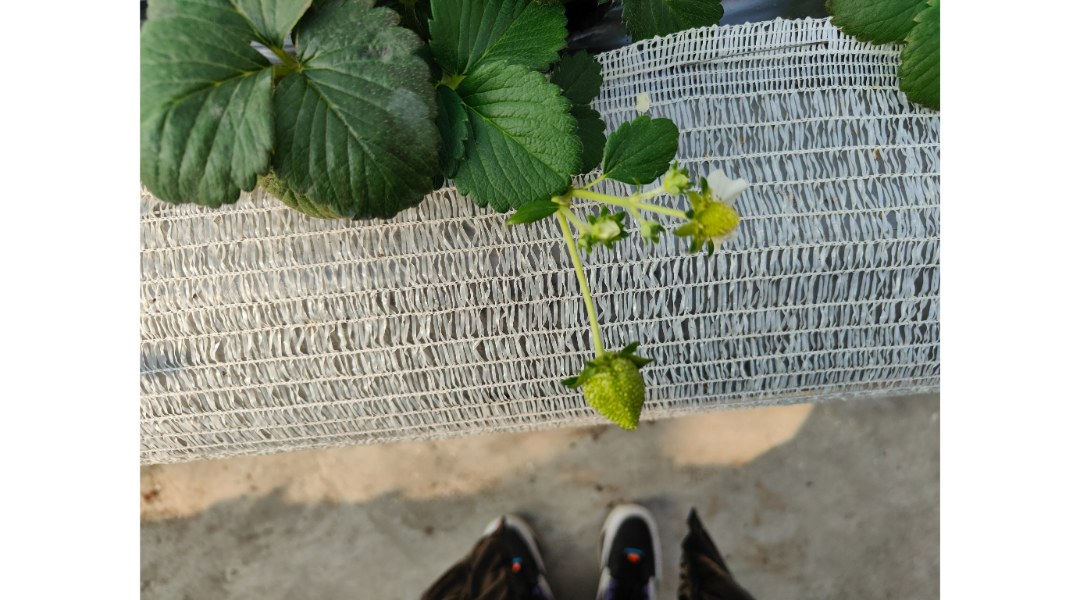berry: (567, 337, 654, 438), (677, 177, 747, 256), (584, 207, 615, 260), (628, 215, 663, 246)
strain: (550, 216, 615, 367), (571, 179, 683, 232)
